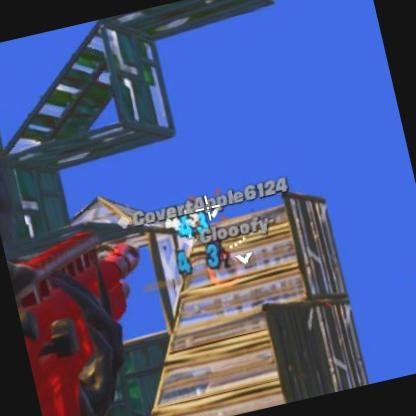person: (207, 230, 228, 260)
